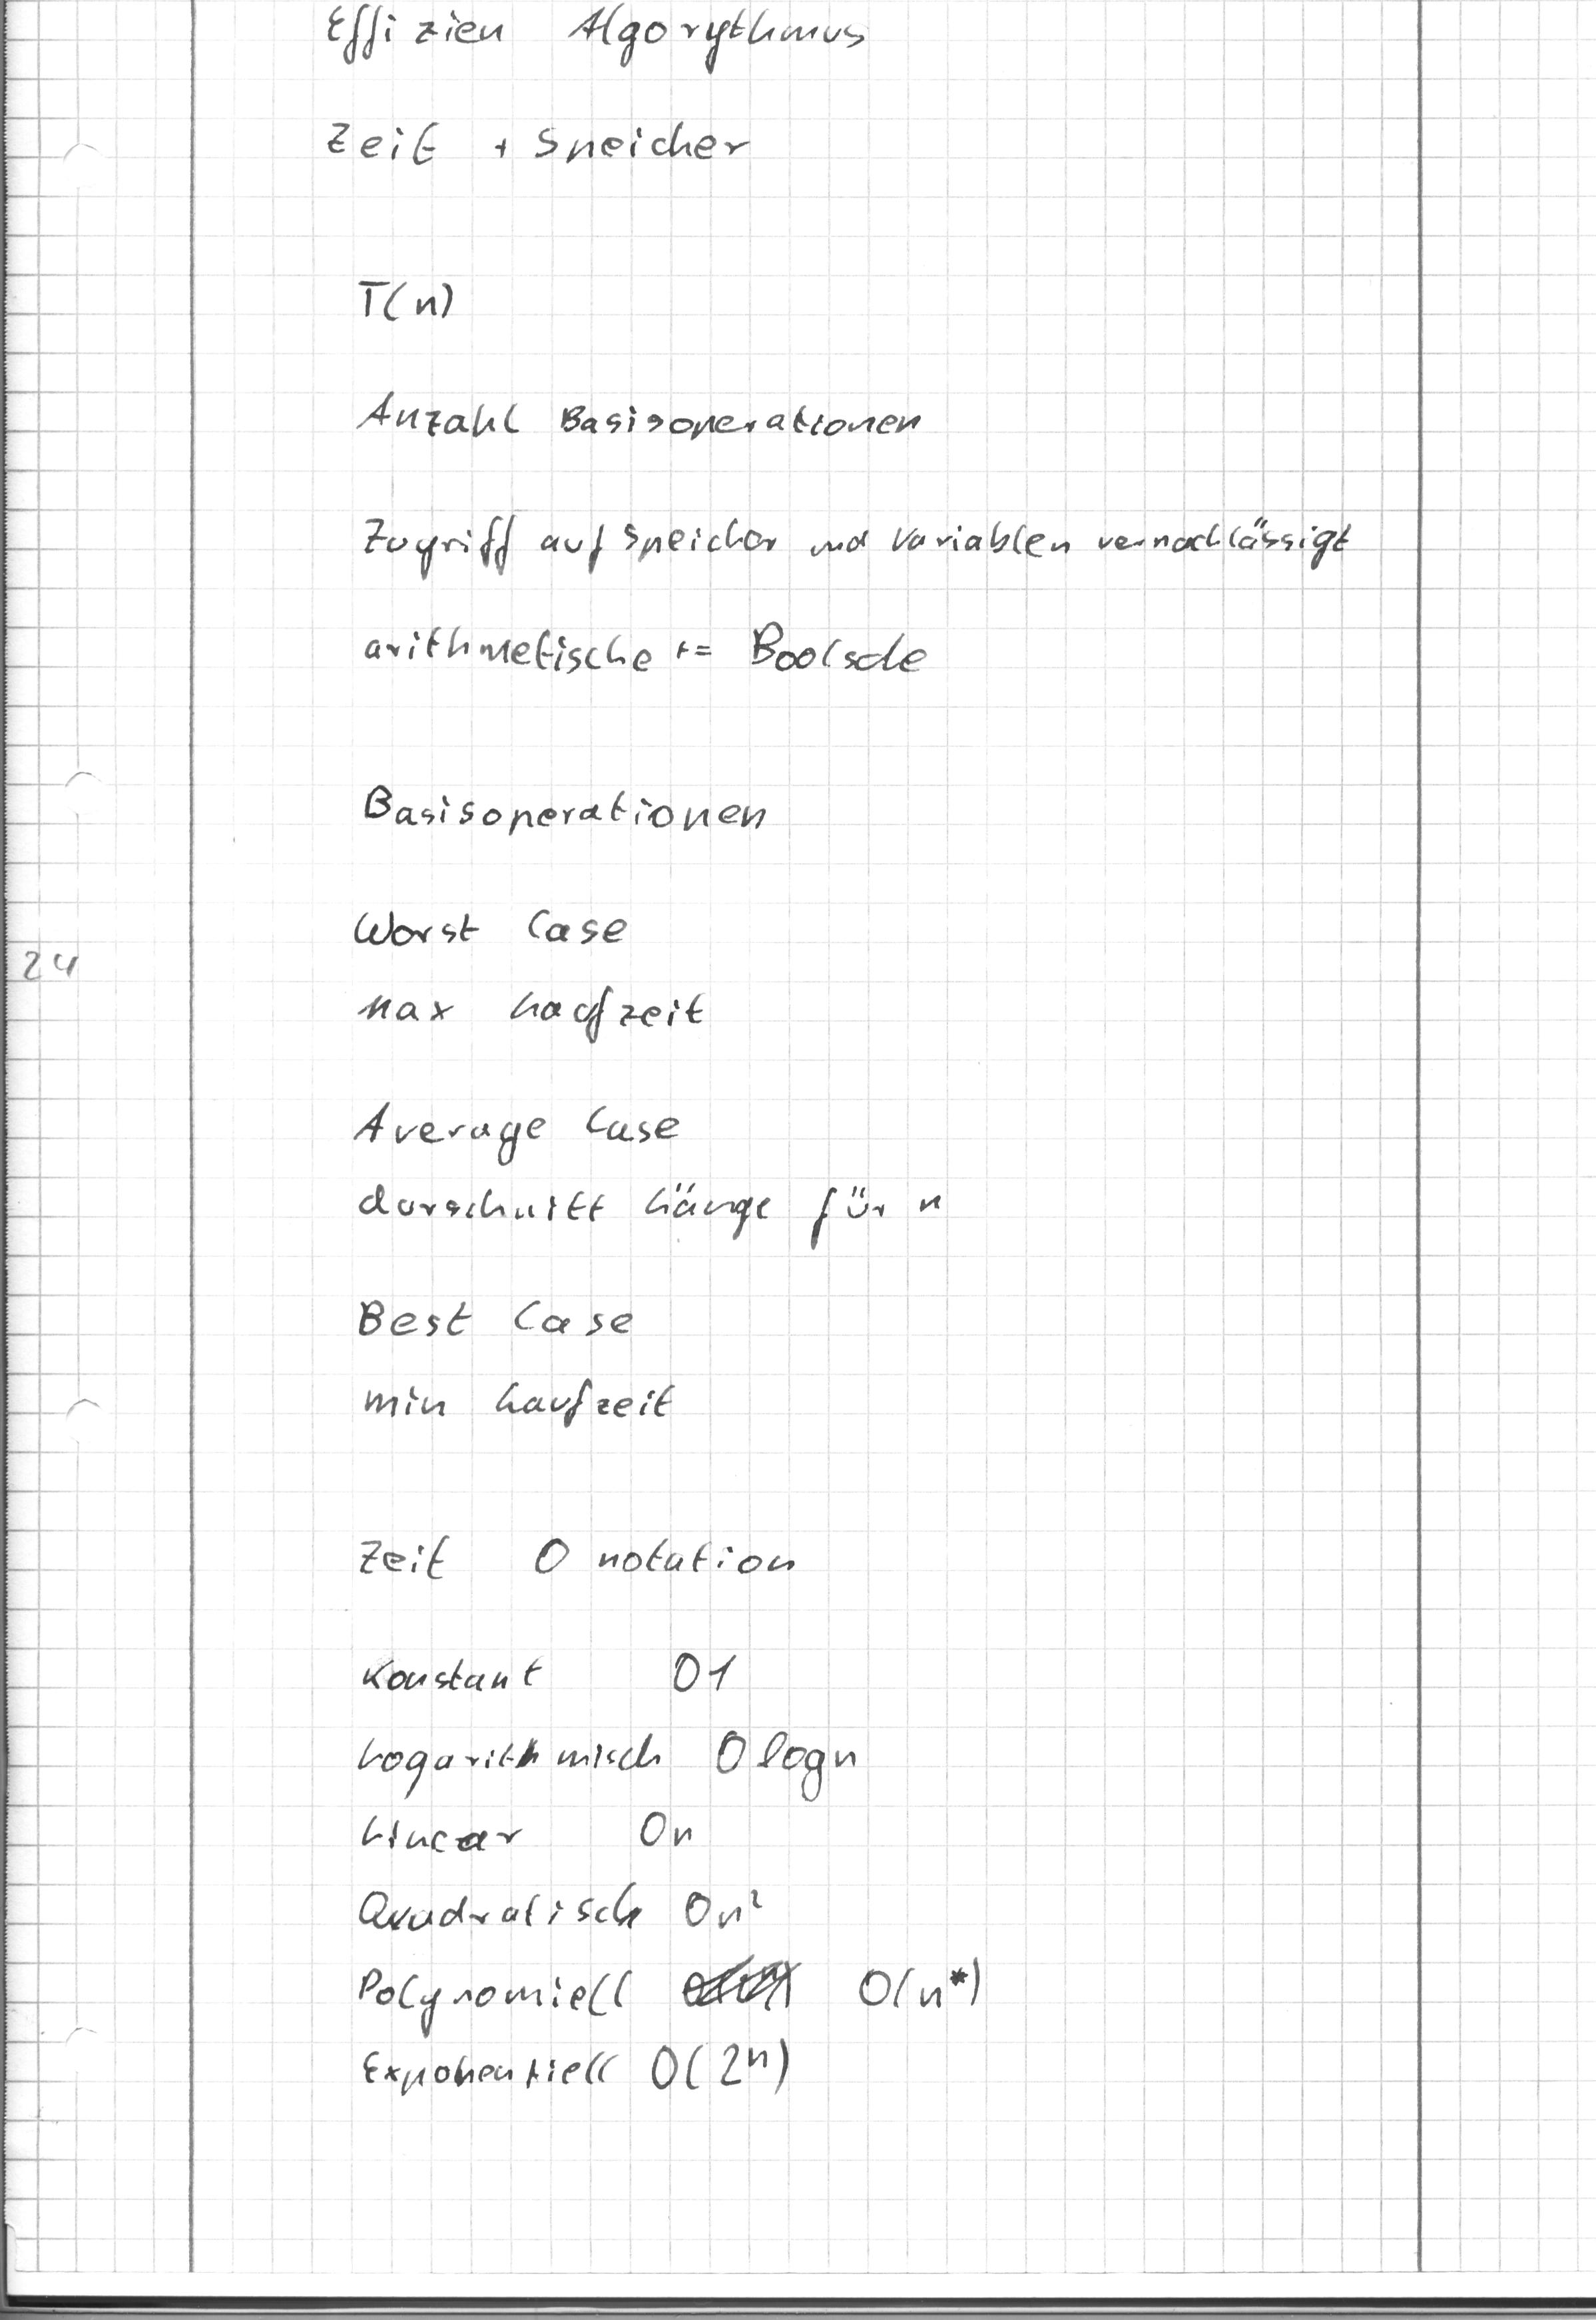word: (350, 384, 1364, 693), (352, 1884, 992, 2112), (350, 1644, 867, 1868), (347, 1093, 952, 1263), (341, 900, 711, 1057), (340, 1281, 690, 1440), (347, 764, 777, 854), (312, 105, 788, 184), (346, 1520, 813, 1597)
